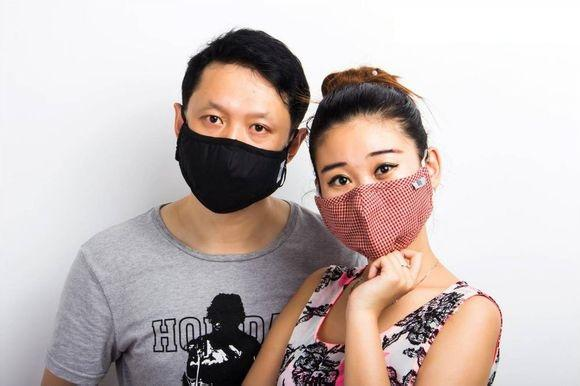OK: (176, 97, 291, 214), (316, 140, 429, 255)
